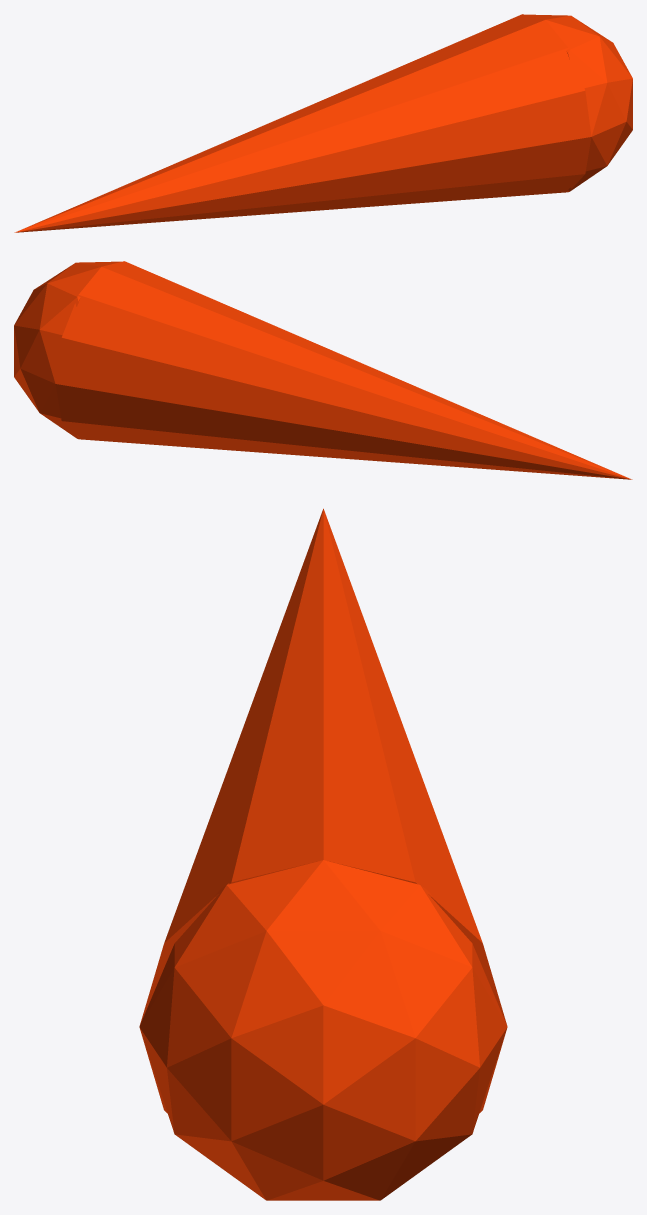
The model's file is nil_link_mesh.dae.
The picture shows the model from 3 angles, top to bottom: view 1: azimuth 30°, elevation 25°; view 2: azimuth 150°, elevation 25°; view 3: azimuth 270°, elevation 25°; orthographic projection. The views are drawn at different scales.
Visible parts, largest first — view 1: nil_link (×2); view 2: nil_link (×2); view 3: nil_link (×2).
Part boxes in pixels (<box>): nil_link (×2): <box>14,14,632,232</box>; nil_link (×2): <box>14,261,632,479</box>; nil_link (×2): <box>139,508,507,1200</box>.
Bounding box in the file's own units: 0.23 × 0.06 × 0.06.
